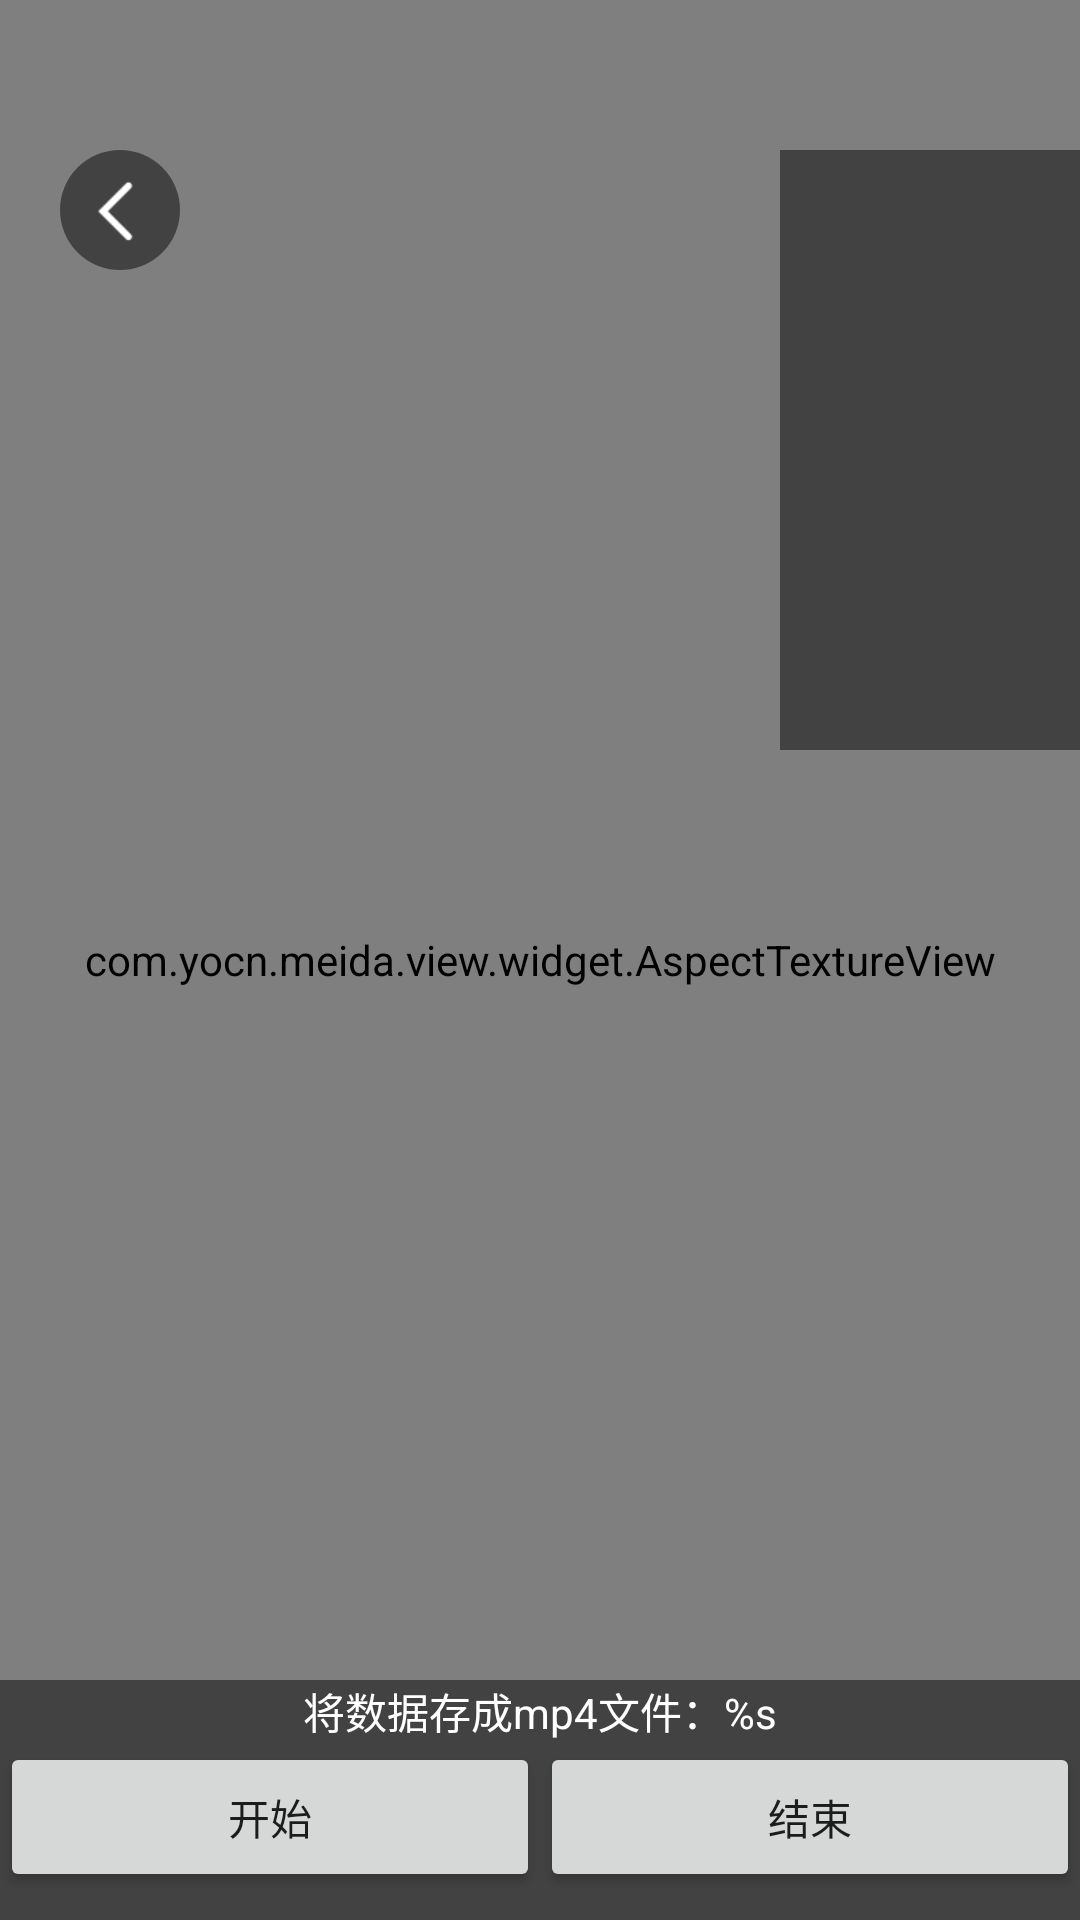

Icon bounding boxes for this 1080w x 1920h phone screenshot, format {"left": x1, "top": y1, "right": x2, "bottom": y2}:
back: {"left": 60, "top": 150, "right": 180, "bottom": 270}
